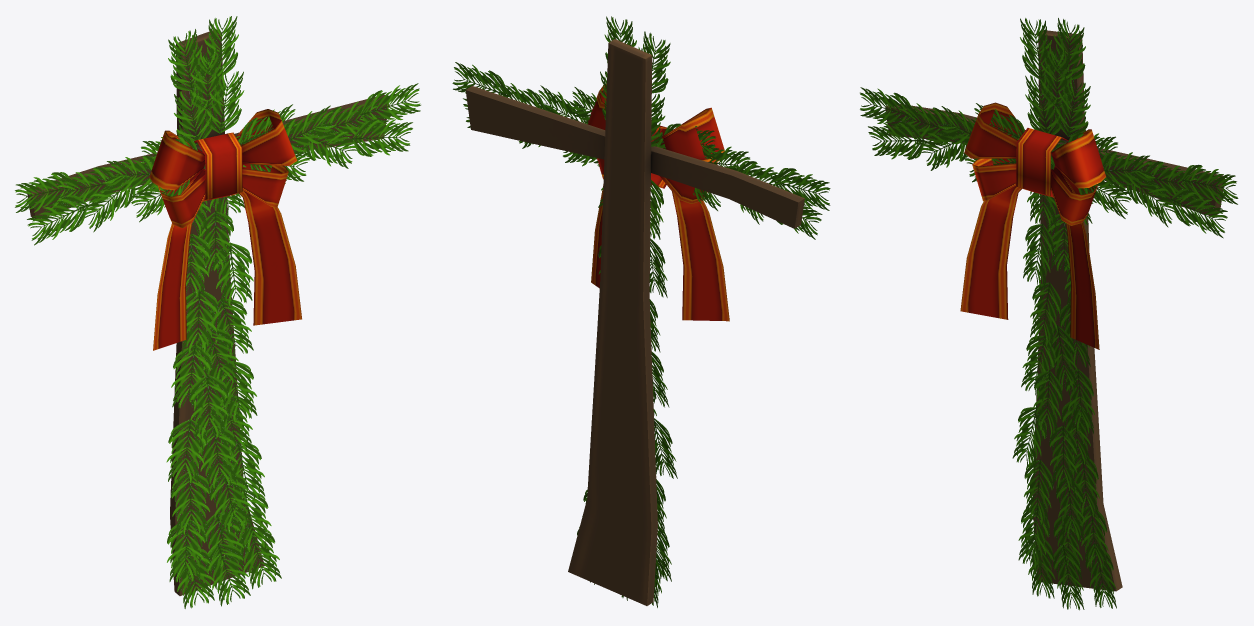
Rendered from CrossDecoration.FBX.
3 renders of one model, left to right at view 1: azimuth 30°, elevation 25°; view 2: azimuth 150°, elevation 25°; view 3: azimuth 330°, elevation 25°, orthographic.
Visible parts, largest first — view 1: Cross; view 2: Cross; view 3: Cross.
Boxes of the visible parts, x1,y1,x2,y2 form: Cross: [15, 16, 420, 608]; Cross: [452, 16, 830, 607]; Cross: [860, 18, 1238, 610].
Size of the model in its own units: 42.34 by 60.61 by 7.5.
Materials: 1 (1 with a texture image).
